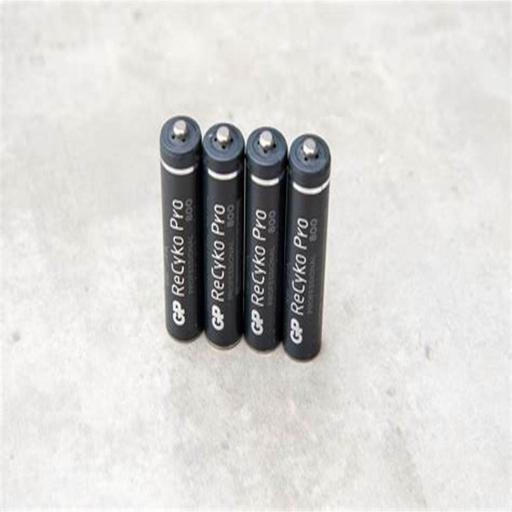battery: (242, 125, 290, 354), (284, 134, 331, 363), (200, 124, 246, 352), (160, 116, 204, 346)
